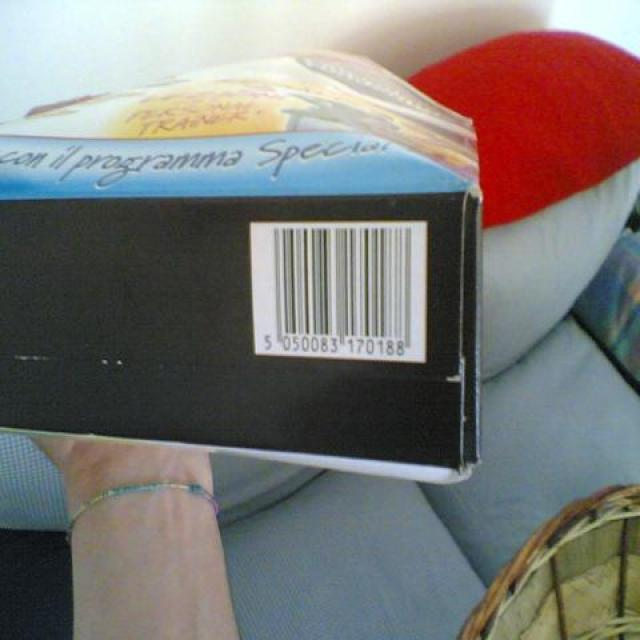Barcode: (250, 220, 426, 356)
